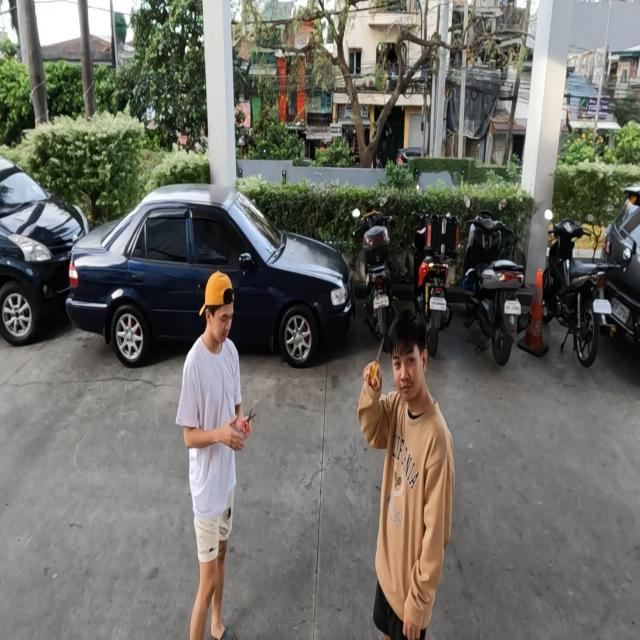scissor: (365, 336, 385, 388), (235, 410, 258, 438)
